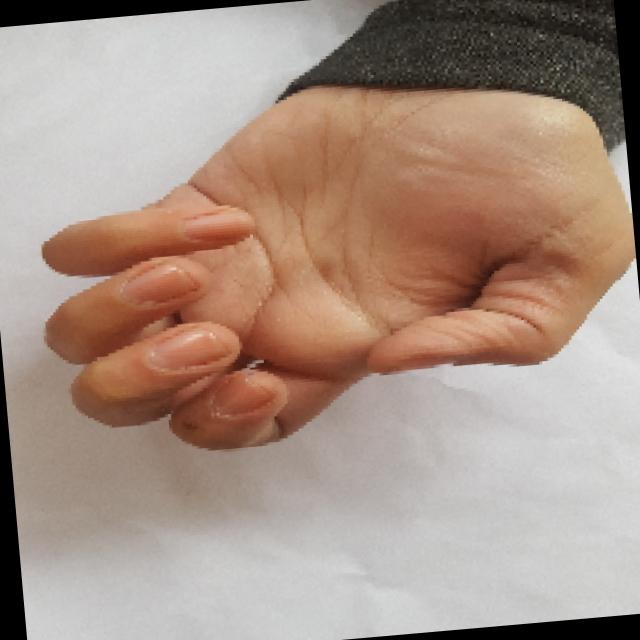Nail: (146, 325, 224, 370), (126, 263, 201, 306), (209, 373, 265, 418), (184, 207, 254, 240)
